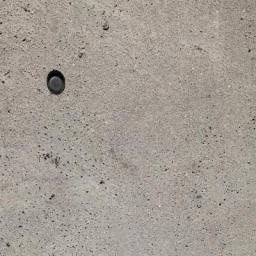FOD: (44, 69, 69, 98)
